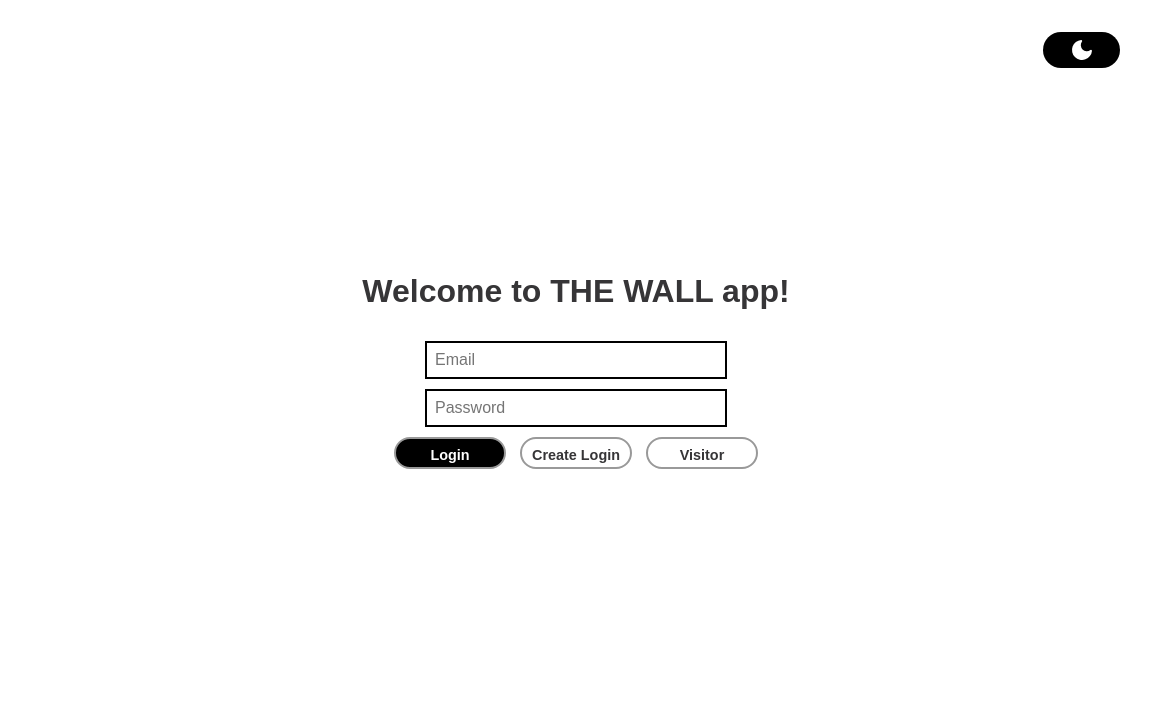
Test case: e2e tests › can possible visit the wall as visitor?
The width and height of the screenshot is (1152, 720).
Expected: the heading "Welcome to THE WALL app!" is shown, [362,272,790,310]
Click the button with test id "visitor-link-wall" at (702,453), box [646,437,758,469]
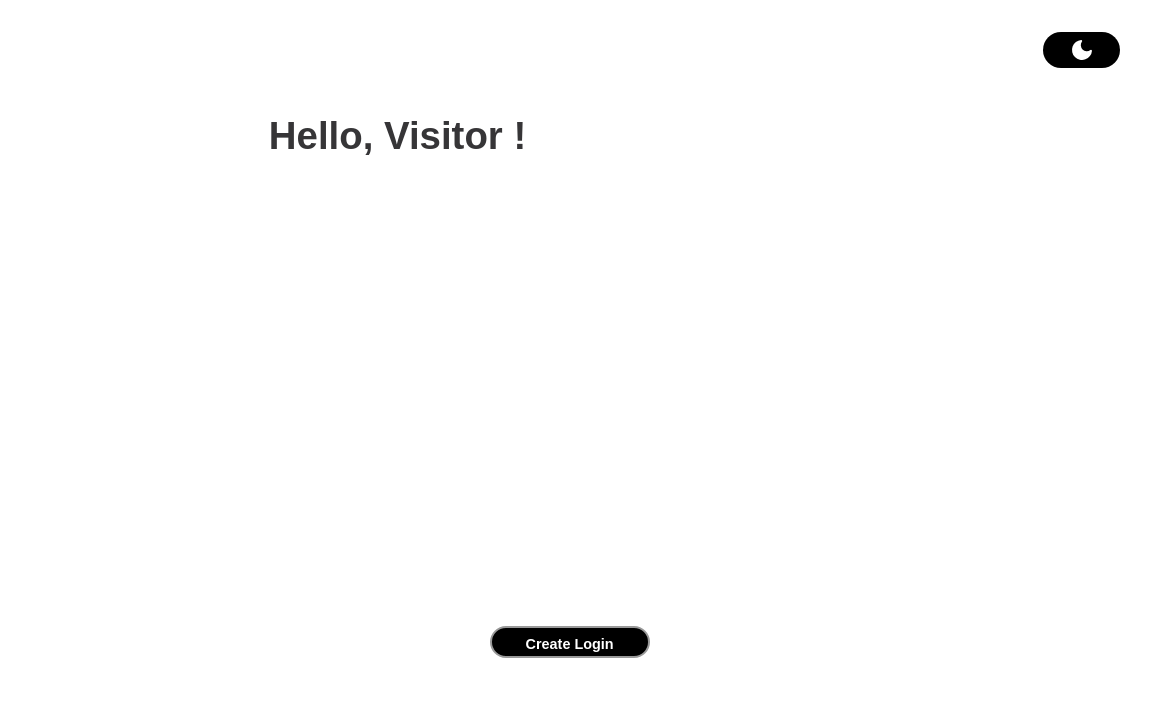
Expected: the button with test id "create-login" is shown, [490,626,650,658]
Expected: the heading "Hello, Visitor !" is shown, [269,114,526,157]
